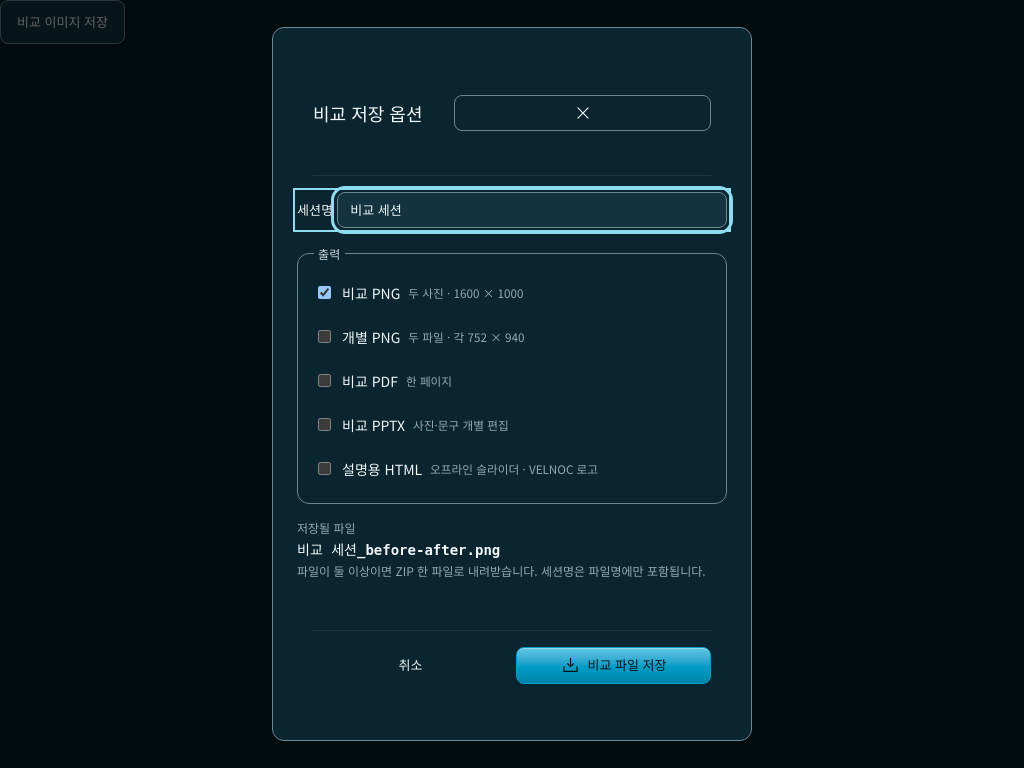
it: comparison export dialog › previews one ZIP when 개별 PNG joins the default PNG
The width and height of the screenshot is (1024, 768).
# another format is selected.
Click the checkbox labelled "개별 PNG" at (324, 337), box x1=318 y1=330 x2=331 y2=343
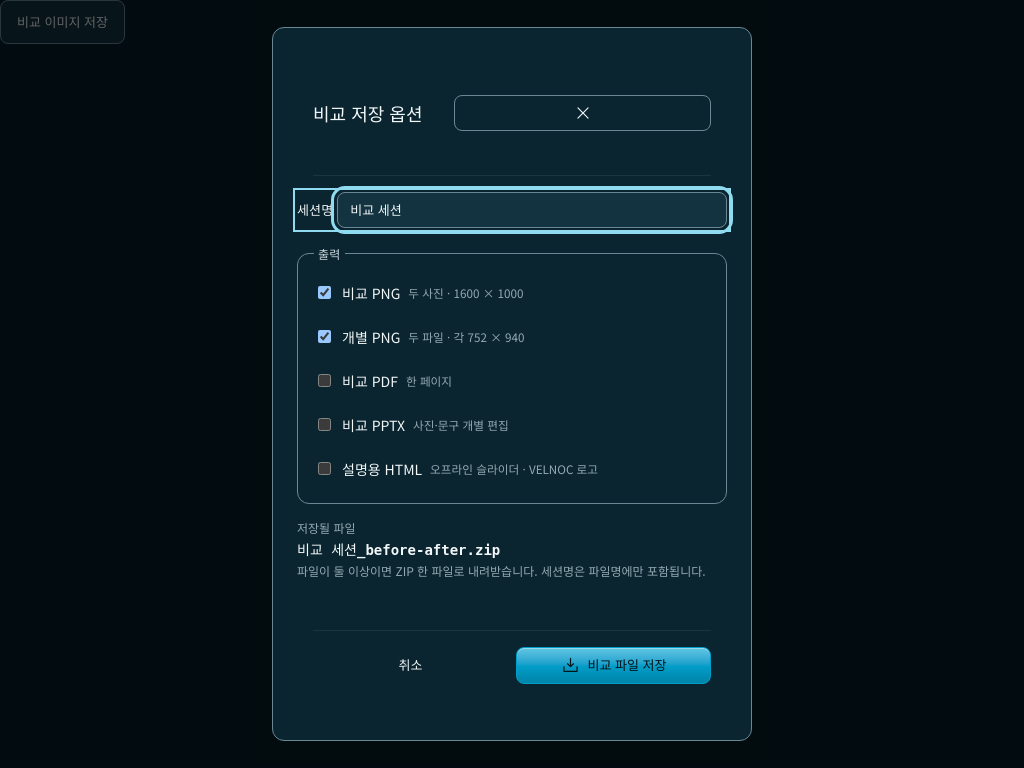
Expected: the dialog "비교 저장 옵션" is shown, x1=272 y1=27 x2=752 y2=741
Result: the text "비교 세션_before-after.zip" is shown at x1=297 y1=542 x2=500 y2=558
